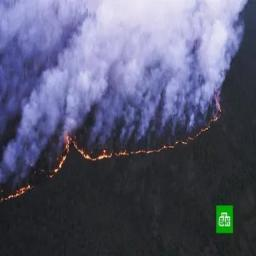Heavy smoke: (0, 0, 256, 186)
